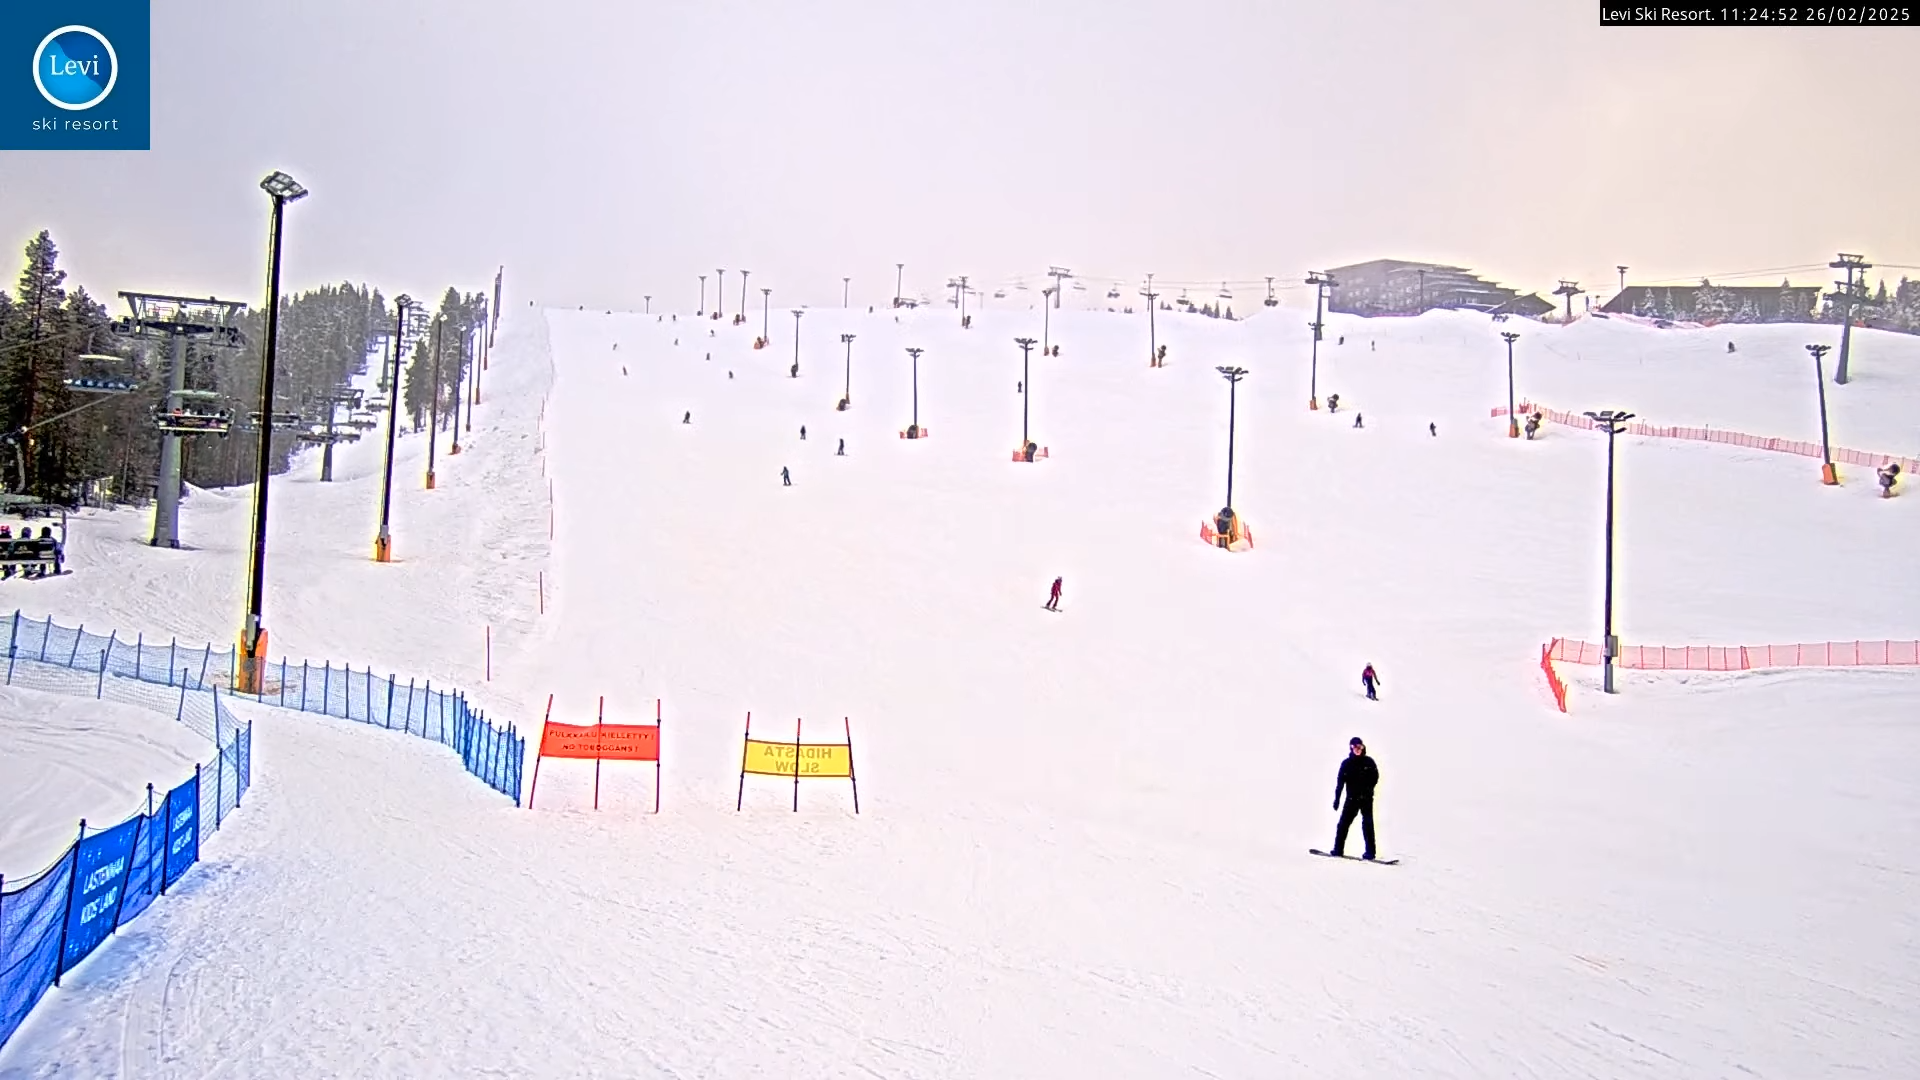skier: (1361, 661, 1382, 702)
snowboarder: (1305, 736, 1399, 865)
